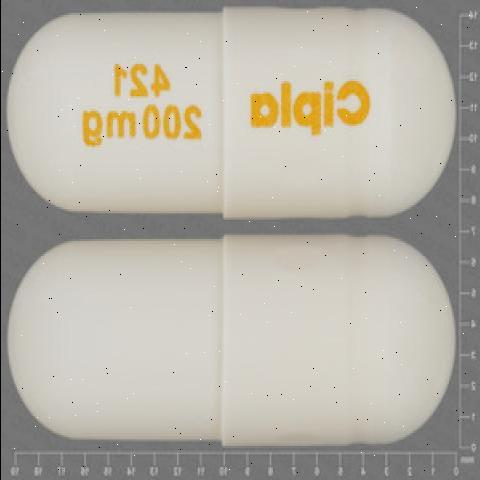Pill: (3, 0, 458, 234), (6, 227, 458, 456)
